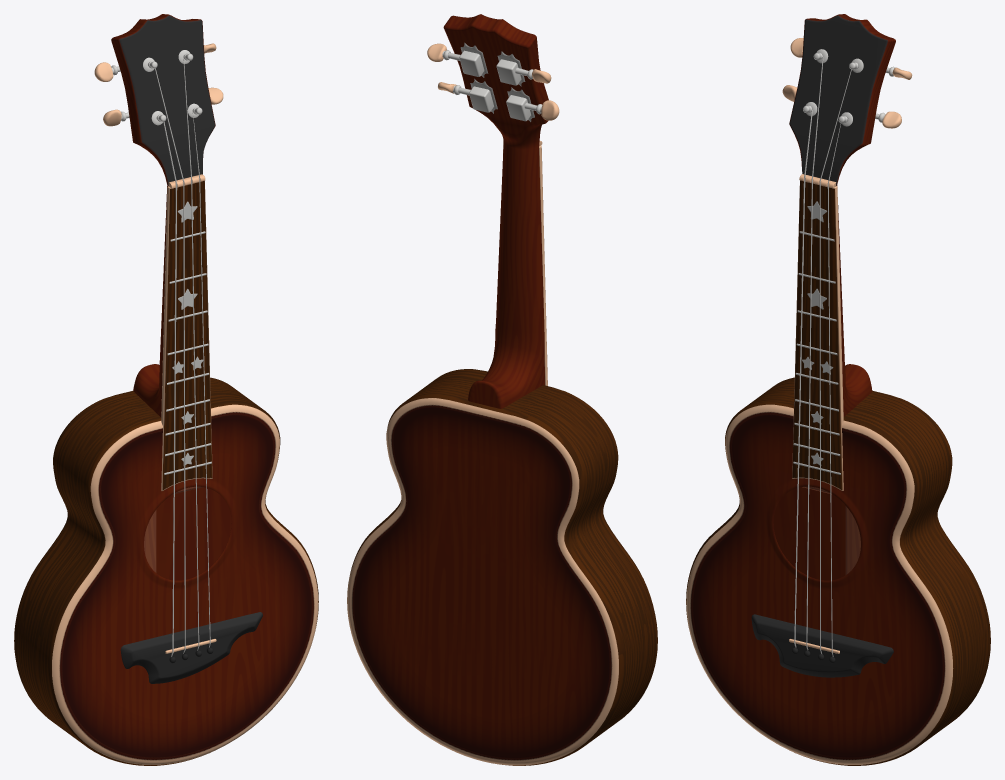
The model's file is bass_guitar.glb.
The picture shows the model from 3 angles, left to right: view 1: azimuth 30°, elevation 25°; view 2: azimuth 150°, elevation 25°; view 3: azimuth 330°, elevation 25°; orthographic projection. The views are drawn at different scales.
Parts seen in each view (by area): view 1: guitar_acoustic_base_stylized_lod0; view 2: guitar_acoustic_base_stylized_lod0; view 3: guitar_acoustic_base_stylized_lod0.
Boxes of the visible parts, x1=… form: guitar_acoustic_base_stylized_lod0: x1=14, y1=14, x2=318, y2=765; guitar_acoustic_base_stylized_lod0: x1=347, y1=14, x2=657, y2=765; guitar_acoustic_base_stylized_lod0: x1=686, y1=14, x2=990, y2=765.
Bounding box in the file's own units: 0.3763 × 0.9753 × 0.1119.
1 material, 1 textured.
